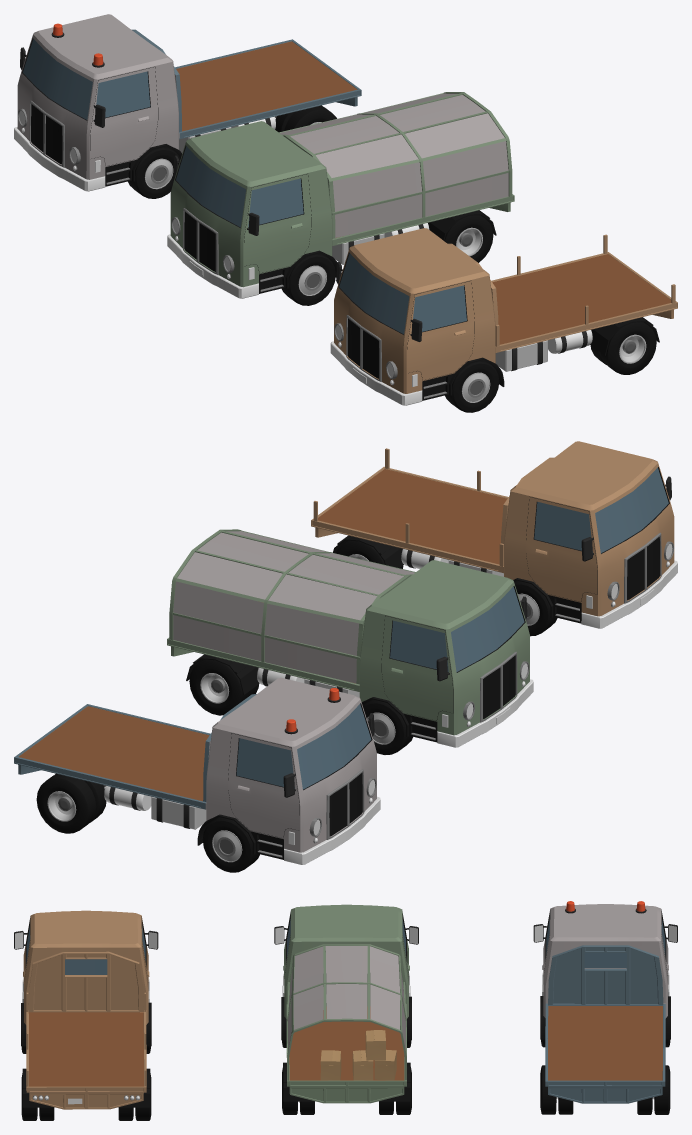
The model's file is LowPolyTrucks.fbx.
3 renders of one model, top to bottom at view 1: azimuth 30°, elevation 25°; view 2: azimuth 150°, elevation 25°; view 3: azimuth 270°, elevation 25°, orthographic. The views are drawn at different scales.
Visible parts, largest first — view 1: Truck2Low, Truck.3Low.001, Truck.Low; view 2: Truck2Low, Truck.Low, Truck.3Low.001; view 3: Truck.Low, Truck.3Low.001, Truck2Low.
Boxes of the visible parts, x1,y1,x2,y2 form: Truck2Low: (167, 92, 514, 305); Truck.3Low.001: (330, 228, 677, 412); Truck.Low: (14, 14, 361, 198); Truck2Low: (167, 529, 533, 754); Truck.Low: (14, 677, 380, 872); Truck.3Low.001: (311, 441, 677, 636); Truck.Low: (533, 901, 677, 1114); Truck.3Low.001: (14, 910, 158, 1120); Truck2Low: (274, 904, 418, 1114).
Size of the model in its own units: 566 by 257 by 1242.
